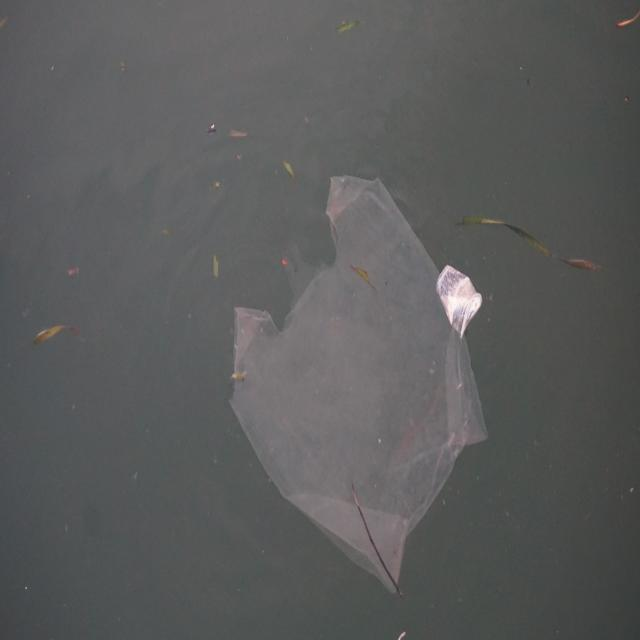Bungkus Minuman: (435, 260, 484, 341)
Kantong Plastik: (226, 164, 494, 588)
